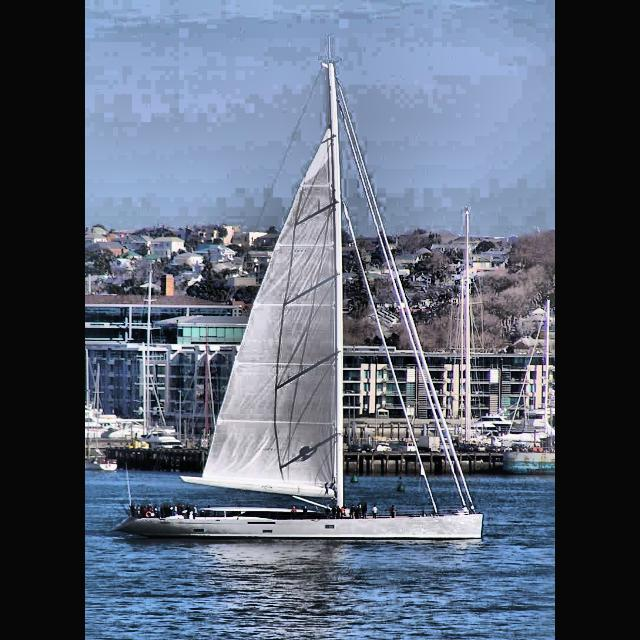sailing_vessel: (110, 59, 486, 542)
